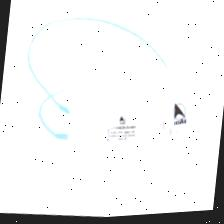mask: (40, 32, 213, 201)
